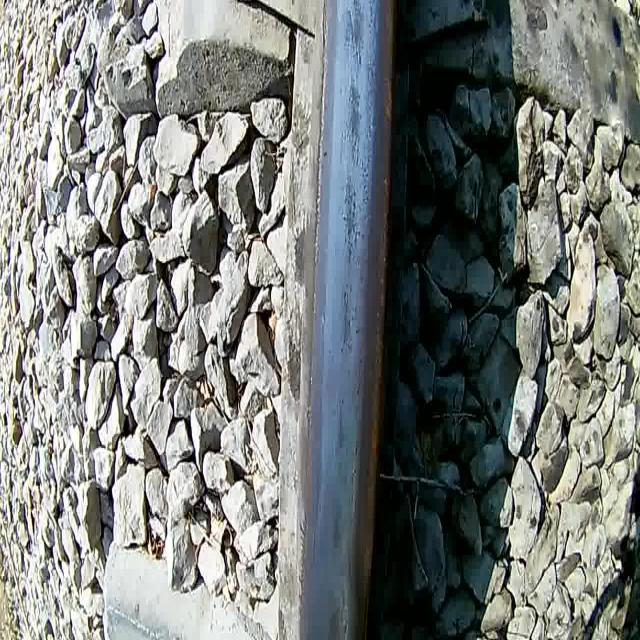Cracks: (347, 195, 358, 273), (337, 585, 351, 640), (347, 126, 364, 171), (340, 287, 350, 356), (344, 4, 356, 48), (349, 33, 364, 67)
Squats: (340, 168, 362, 273), (340, 0, 370, 70), (344, 75, 364, 169), (338, 278, 359, 367), (322, 582, 353, 640), (329, 393, 352, 462), (328, 490, 348, 561)
